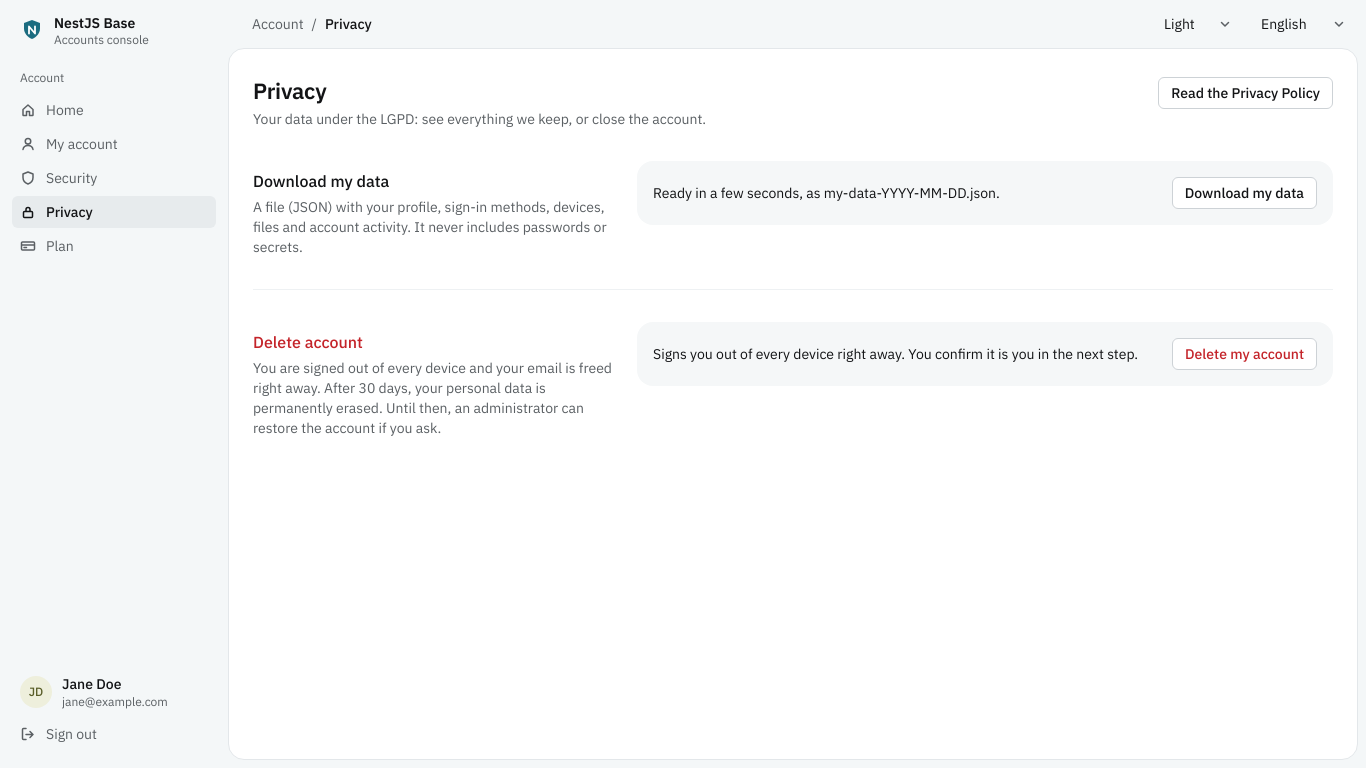
Scenario: privacidade: excluir a conta › confirma numa janela com a senha; cancelar não exclui; depois vai para o login
a senha não fica no painel: só aparece na janela de confirmação
Step 1. Click the button "Delete my account" → (1244, 354), box [1172,338,1317,370]
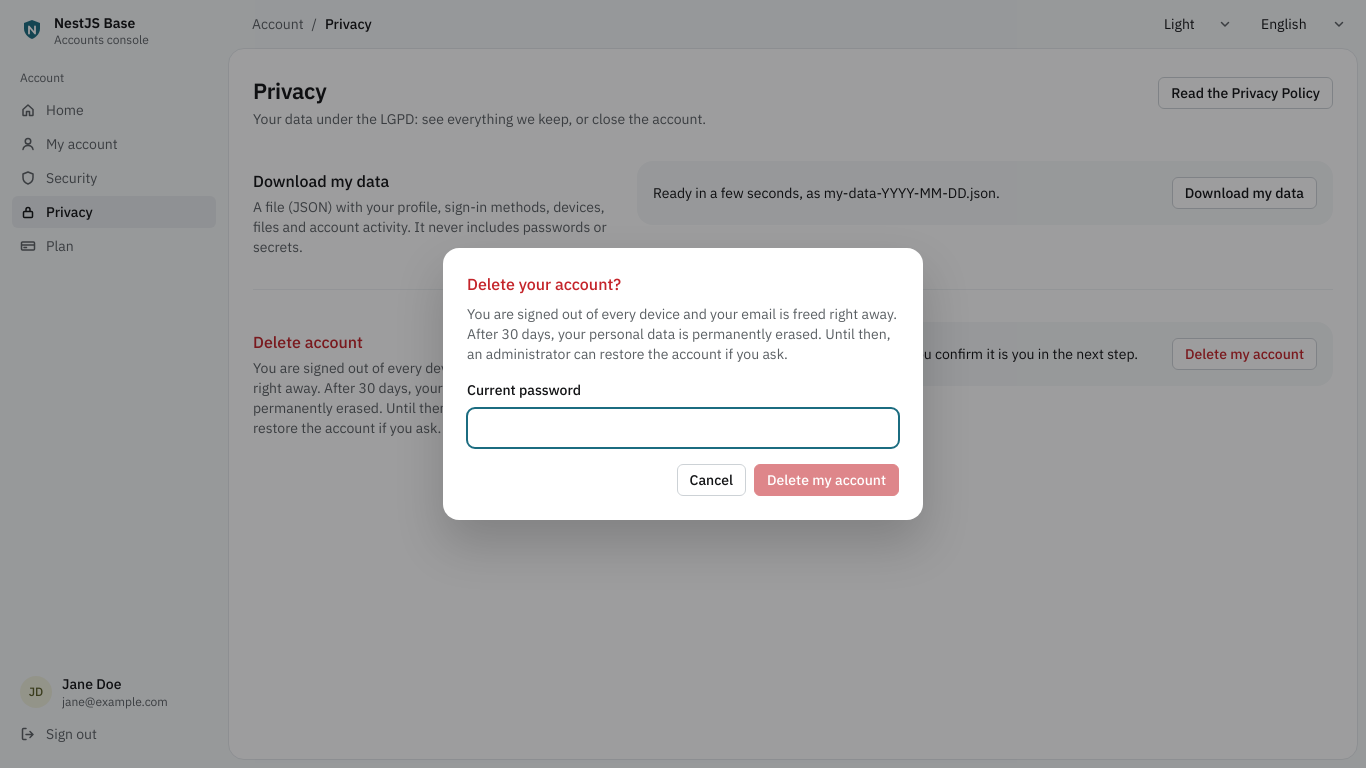
Step 2. Click the button "Cancel" → (711, 480), box [676,464,746,496]
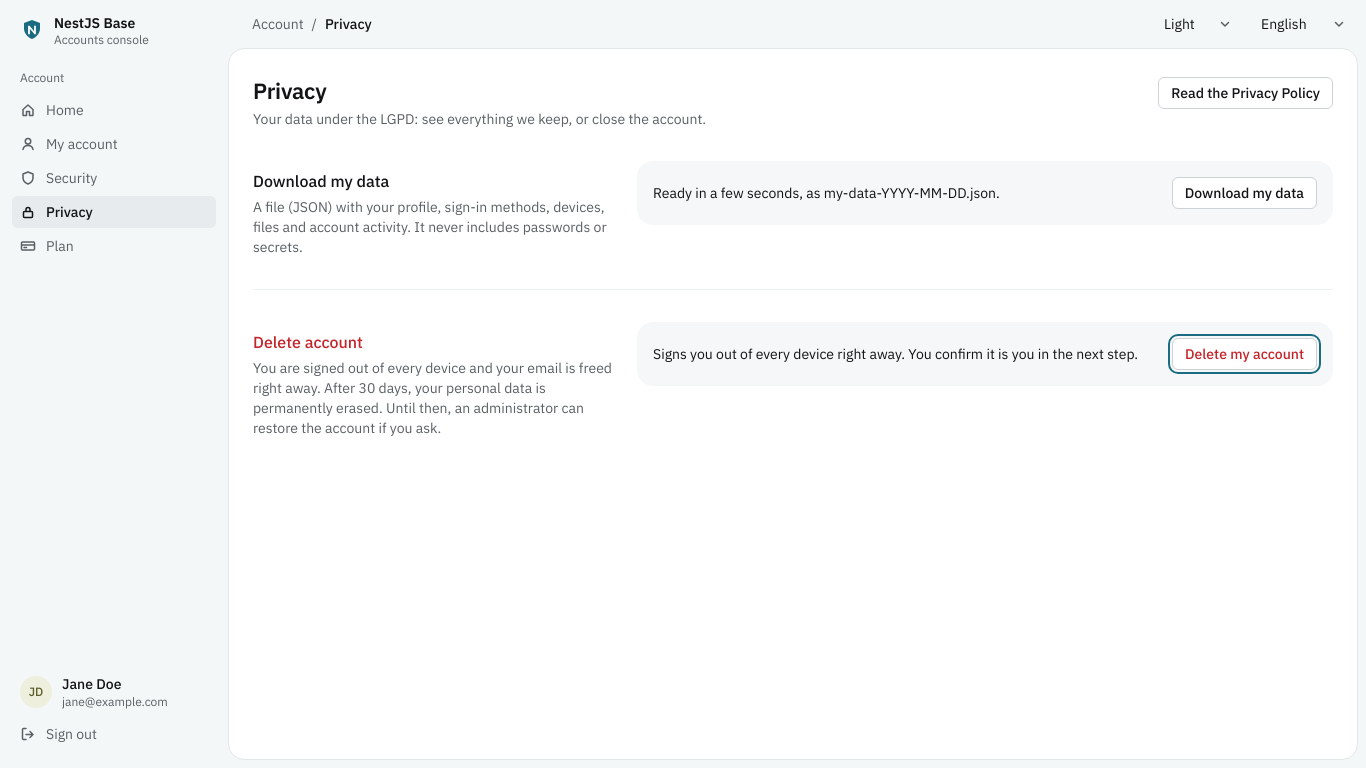
Expected: the dialog is gone
Step 3. Click the button "Delete my account" → (1244, 354), box [1172,338,1317,370]
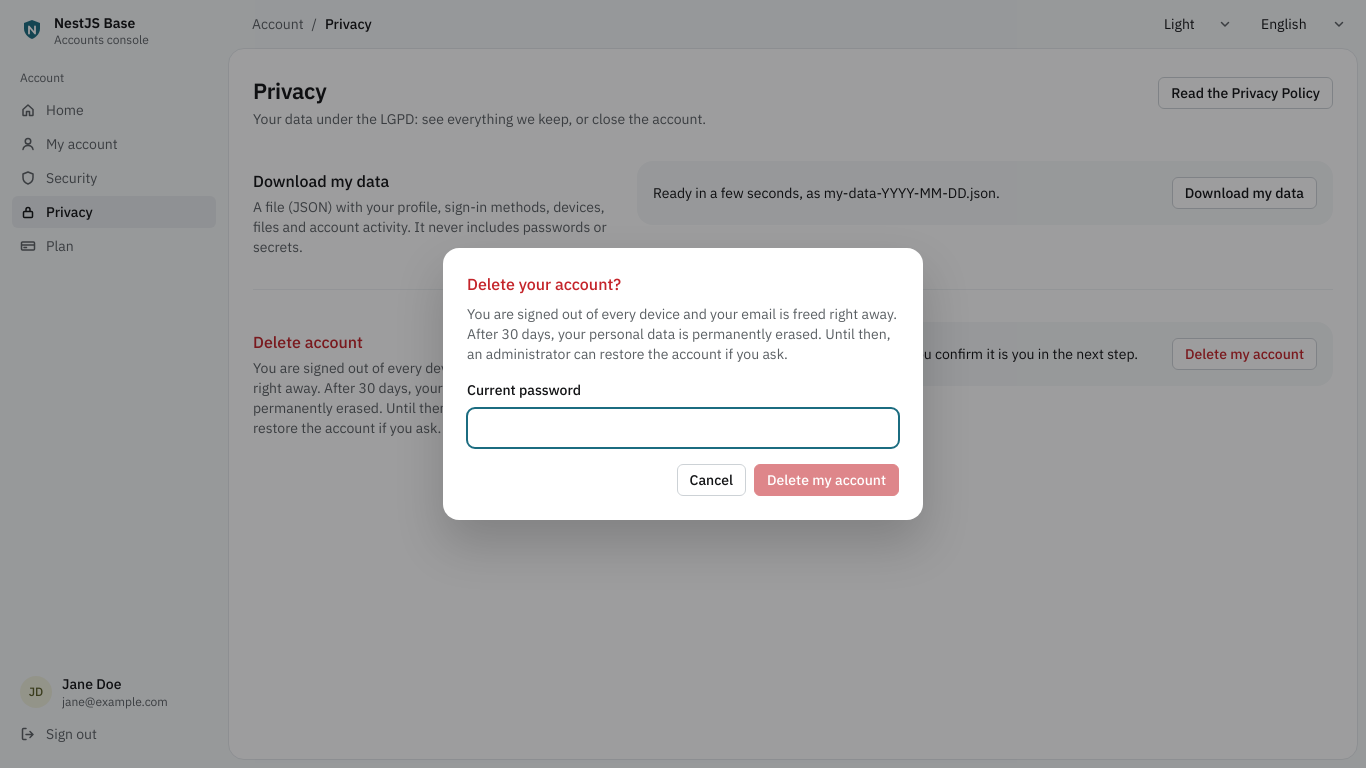
Step 4. Type "secret123" into the password field labelled "Current password" → (683, 428), box [467,408,899,448]
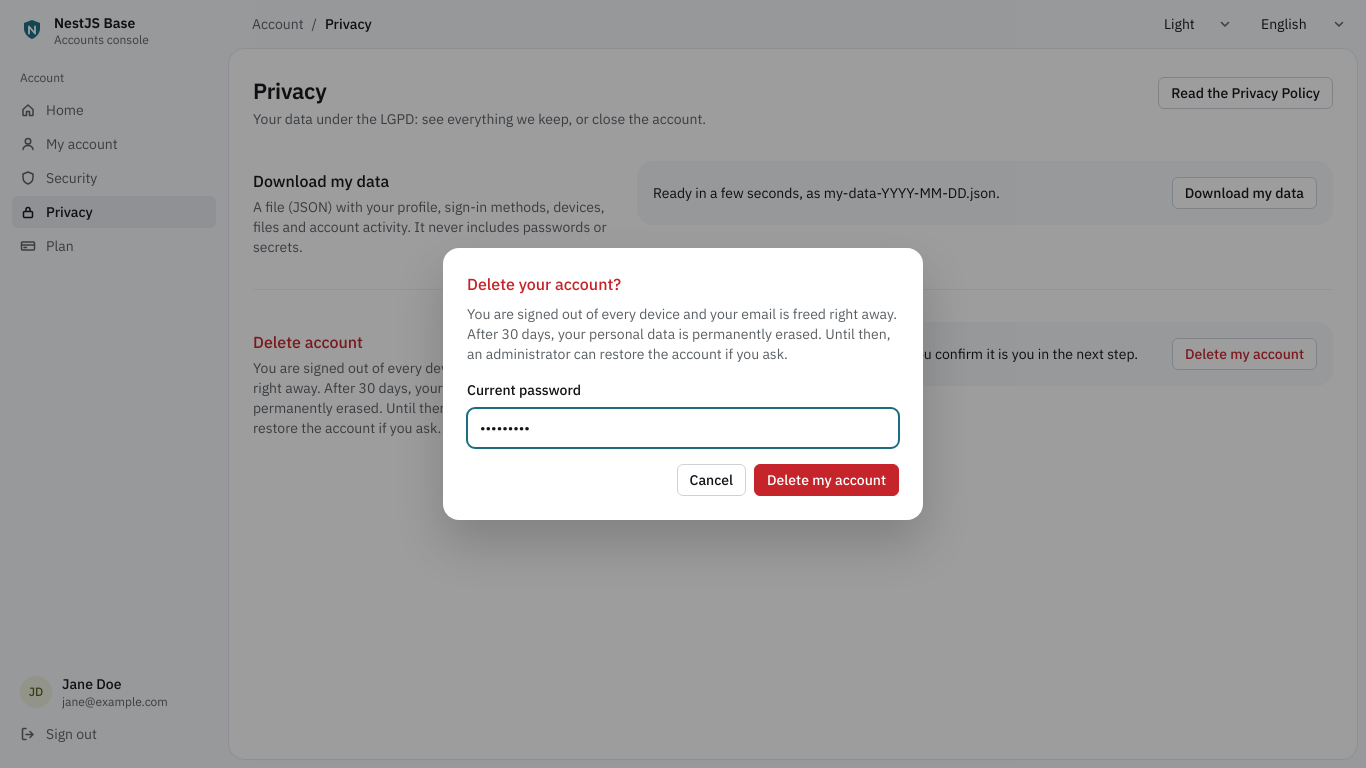
Step 5. Click the button "Delete my account" → (826, 480), box [754,464,899,496]
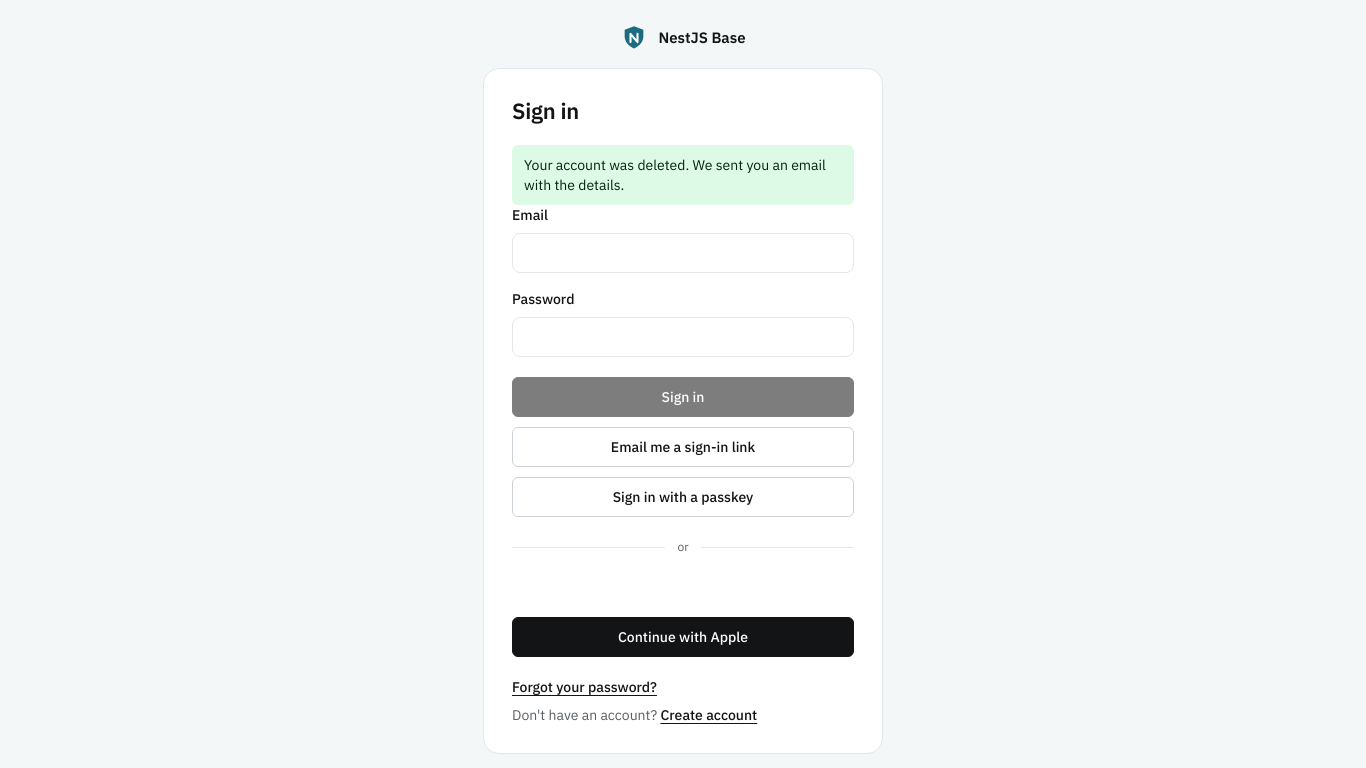
Expected: the text "Your account was deleted. We sent you an email with the details." is shown, [512,145,854,205]
